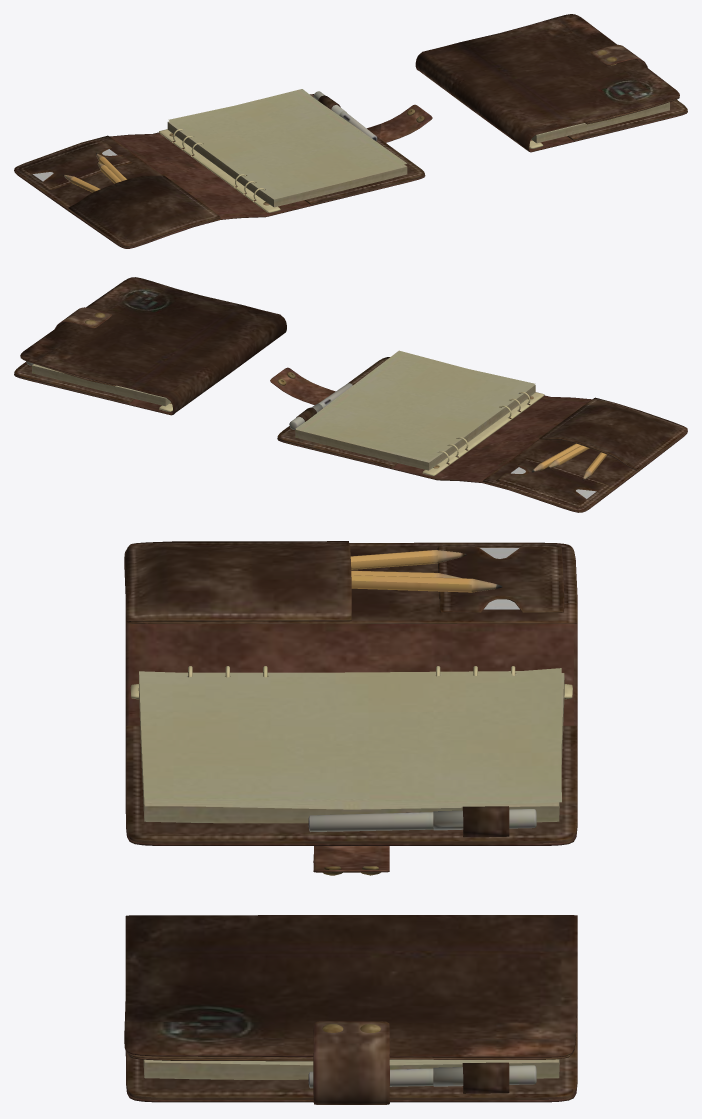
The model's file is notebook.glb.
3 views of the same model, one above another, from view 1: azimuth 30°, elevation 25°; view 2: azimuth 150°, elevation 25°; view 3: azimuth 270°, elevation 25° (orthographic). The views are drawn at different scales.
Parts seen in each view (by area): view 1: binder_notebook, binder_notebook_closed; view 2: binder_notebook, binder_notebook_closed; view 3: binder_notebook, binder_notebook_closed.
Boxes of the visible parts, x1,y1,x2,y2 form: binder_notebook: (14, 89, 432, 248); binder_notebook_closed: (415, 14, 687, 152); binder_notebook: (270, 350, 687, 512); binder_notebook_closed: (14, 277, 286, 415); binder_notebook: (124, 541, 577, 875); binder_notebook_closed: (124, 915, 577, 1104).
Bounding box in the file's own units: 0.5838 × 0.0252 × 0.1999.
Materials: 1 (1 with a texture image).
